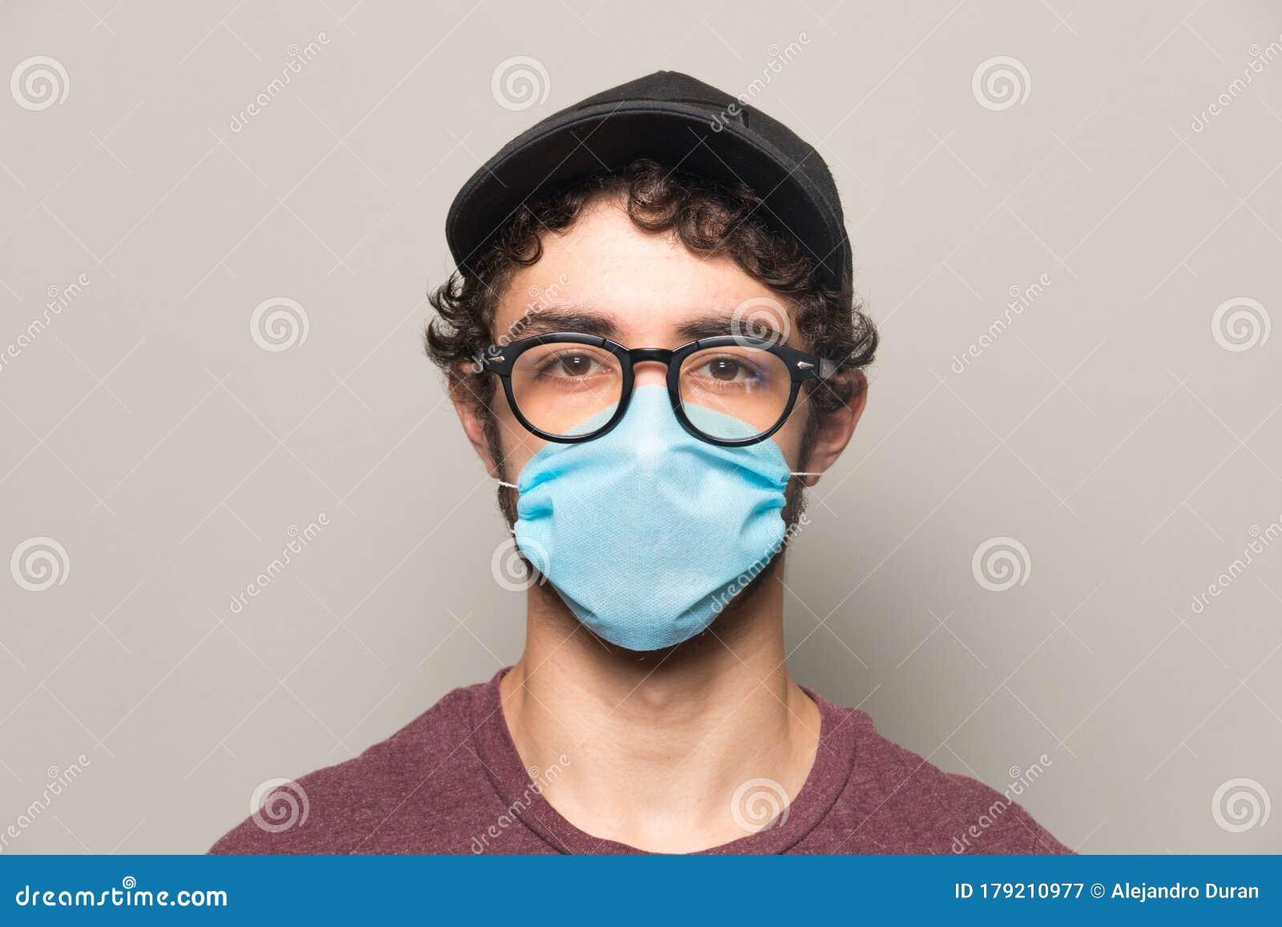cap: (427, 64, 871, 280)
mask: (518, 403, 801, 673)
sunglasses: (489, 323, 815, 457)
